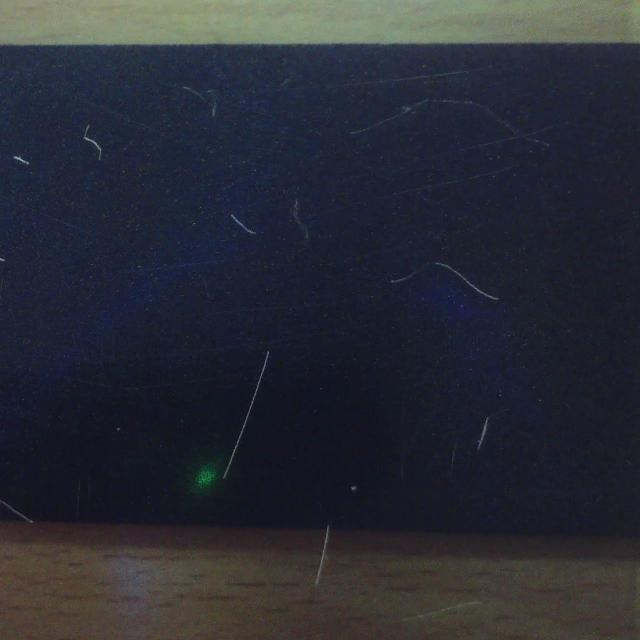defect: (349, 99, 551, 150), (222, 351, 270, 480), (389, 259, 502, 303), (180, 81, 222, 122), (1, 489, 43, 522), (80, 122, 108, 163), (227, 210, 259, 242), (474, 411, 493, 455), (8, 152, 35, 172), (0, 255, 8, 264)
